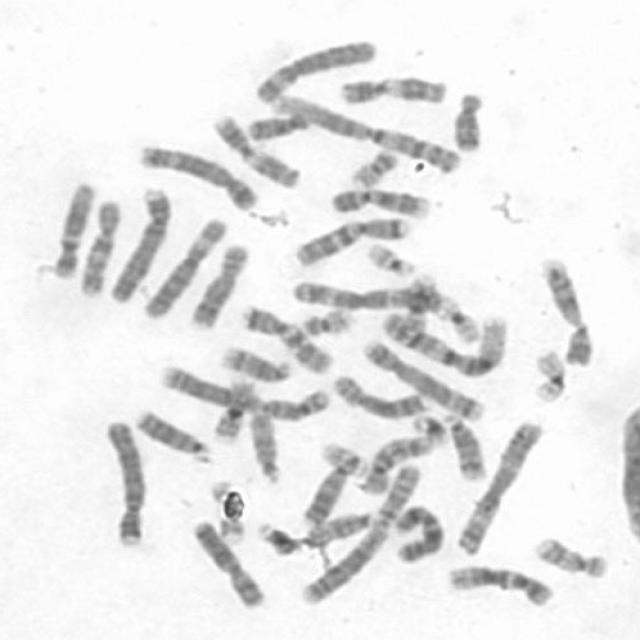A1: (268, 89, 466, 176), (376, 306, 509, 377)
A2: (294, 458, 424, 608), (155, 362, 329, 422)
A3: (286, 276, 486, 346), (451, 415, 544, 556)
B4: (104, 182, 172, 304), (98, 415, 148, 549)
B5: (358, 336, 488, 422), (133, 138, 260, 212)
C10: (354, 428, 436, 496), (76, 197, 123, 298)
C11: (206, 109, 304, 191), (335, 72, 450, 106)
C12: (442, 560, 557, 610), (49, 178, 96, 280)
C6: (136, 211, 229, 321), (250, 36, 378, 104)
C7: (237, 300, 336, 376), (289, 211, 414, 267)
C8: (185, 238, 251, 330), (328, 370, 429, 420)
C9: (537, 253, 596, 368), (325, 184, 433, 222)
D13: (131, 405, 213, 462), (296, 459, 354, 528)
D14: (437, 406, 490, 482), (215, 341, 293, 385)
D15: (301, 506, 380, 551), (244, 407, 283, 484)
E16: (207, 376, 256, 444), (398, 272, 441, 339)
E17: (530, 531, 612, 579), (208, 478, 246, 543)
E18: (449, 86, 487, 154), (242, 106, 310, 142)
F19: (427, 289, 482, 346), (528, 344, 570, 406)
F20: (346, 144, 400, 190), (296, 302, 356, 339)
G21: (253, 517, 303, 558), (408, 409, 449, 447)
G22: (316, 438, 370, 481), (362, 239, 418, 278)
X: (188, 516, 267, 610), (388, 500, 446, 564)
